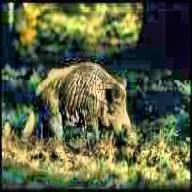boar: (26, 50, 150, 151)
